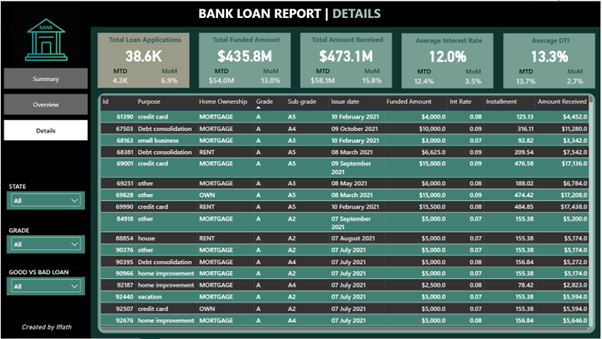

Layout of this report page (visuals, bound fields, positions):
{"tool":"powerbi","page":{"name":"Details","canvas":[1280,720],"ordinal":2},"visuals":[{"type":"shape","box":[206.3,67.8,195.8,117.5],"z":0,"group":"g1"},{"type":"shape","box":[422.8,67.8,195.8,117.5],"z":0,"group":"g2"},{"type":"shape","box":[639.3,67.8,195.8,117.5],"z":0,"group":"g3"},{"type":"shape","box":[855.8,68.3,195.8,117.5],"z":0,"group":"g4"},{"type":"shape","box":[1072.7,68.3,195.8,117.5],"z":0,"group":"g5"},{"type":"shape","box":[206.3,196.2,1061.9,512.2],"z":0},{"type":"shape","box":[0,55.2,192,665.6],"z":1000},{"type":"card","fields":{"Values":["public bank_loan_data.Total Loan Applications"]},"box":[238.3,87.4,131.7,55.2],"z":1000,"group":"g1"},{"type":"card","fields":{"Values":["public bank_loan_data.Total Funded Amount"]},"box":[454.8,87.4,131.7,55.2],"z":1000,"group":"g2"},{"type":"card","fields":{"Values":["public bank_loan_data.Total Amount Received"]},"box":[671.3,87.4,131.7,55.2],"z":1000,"group":"g3"},{"type":"card","fields":{"Values":["public bank_loan_data.Avg Interest Rate"]},"box":[887.8,87.9,131.7,55.2],"z":1000,"group":"g4"},{"type":"card","fields":{"Values":["public bank_loan_data.Average DTI"]},"box":[1104.7,87.9,131.7,55.2],"z":1000,"group":"g5"},{"type":"shape","box":[0,0,1280,55],"z":2000},{"type":"textbox","box":[220.5,67.8,172.6,39.2],"z":2000,"group":"g1"},{"type":"textbox","box":[437,67.8,172.6,39.2],"z":2000,"group":"g2"},{"type":"textbox","box":[653.5,67.8,172.6,39.2],"z":2000,"group":"g3"},{"type":"textbox","box":[870,68.3,172.6,39.2],"z":2000,"group":"g4"},{"type":"textbox","box":[1086.9,68.3,172.6,39.2],"z":2000,"group":"g5"},{"type":"textbox","box":[416.5,1.8,448.5,53.4],"z":3000},{"type":"card","title":"MTD","fields":{"Values":["public bank_loan_data.MTD Loan Applications"]},"box":[220.5,139,67.6,46.3],"z":3000,"group":"g1"},{"type":"card","title":"MTD","fields":{"Values":["public bank_loan_data.MTD Funded Amount"]},"box":[437,139,67.6,46.3],"z":3000,"group":"g2"},{"type":"card","title":"MTD","fields":{"Values":["public bank_loan_data.MTD Total Amount Received"]},"box":[653.5,139,67.6,46.3],"z":3000,"group":"g3"},{"type":"card","title":"MTD","fields":{"Values":["public bank_loan_data.MTD Avg Interest Rate"]},"box":[870,139.5,67.6,46.3],"z":3000,"group":"g4"},{"type":"card","title":"MTD","fields":{"Values":["public bank_loan_data.MTD Avg DTI"]},"box":[1086.9,139.5,67.6,46.3],"z":3000,"group":"g5"},{"type":"group","id":"g1","title":"Group 1","box":[206.3,67.8,196.2,118.3],"z":4000},{"type":"card","title":"MoM","fields":{"Values":["public bank_loan_data.MoM Loan Application"]},"box":[325.5,139,67.6,46.3],"z":4000,"group":"g1"},{"type":"card","title":"MoM","fields":{"Values":["public bank_loan_data.MoM Total Funded Amount"]},"box":[542,139,67.6,46.3],"z":4000,"group":"g2"},{"type":"card","title":"MoM","fields":{"Values":["public bank_loan_data.MoM Total Amount Received"]},"box":[758.5,139,67.6,46.3],"z":4000,"group":"g3"},{"type":"card","title":"MoM","fields":{"Values":["public bank_loan_data.MoM Avg Interest Rate"]},"box":[975,139.5,67.6,46.3],"z":4000,"group":"g4"},{"type":"card","title":"MoM","fields":{"Values":["public bank_loan_data.MoM Avg DTI"]},"box":[1191.9,139.5,67.6,46.3],"z":4000,"group":"g5"},{"type":"group","id":"g2","title":"Group 1","box":[422.8,67.8,196.2,118.3],"z":5000},{"type":"group","id":"g3","title":"Group 1","box":[639.3,67.8,196.2,116.9],"z":6000},{"type":"group","id":"g4","title":"Group 1","box":[855.8,68.3,196.6,117.5],"z":7000},{"type":"group","id":"g5","title":"Group 1","box":[1072.7,68.3,195.4,117.5],"z":8000},{"type":"slicer","title":"STATE","fields":{"Values":["public bank_loan_data.address_state"]},"box":[12,385.5,167.4,59.2],"z":9000},{"type":"slicer","title":"GRADE","fields":{"Values":["public bank_loan_data.grade"]},"box":[12,479.3,167.4,59.2],"z":10000},{"type":"slicer","title":"GOOD VS BAD LOAN","fields":{"Values":["public bank_loan_data.Good vs Bad Loan"]},"box":[12,568.7,167.4,59.2],"z":11000},{"type":"tableEx","fields":{"Values":["public bank_loan_data.id","public bank_loan_data.purpose","public bank_loan_data.home_ownership","public bank_loan_data.grade","public bank_loan_data.sub_grade","public bank_loan_data.issue_date","public bank_loan_data.Total Funded Amount","Sum(public bank_loan_data.int_rate)","Sum(public bank_loan_data.installment)","public bank_loan_data.Total Amount Received"]},"box":[206.3,196.2,1061.9,512.2],"z":12000},{"type":"image","box":[5.8,0,181.8,160.1],"z":13000},{"type":"pageNavigator","box":[5.8,142.8,180.3,155.8],"z":14000},{"type":"textbox","box":[13.2,680.7,167.8,27.6],"z":15000}]}

Visuals, with their boxes in screenshot pixels (x1, y1, x2, y2), scaled from the page's 1280x720 canvas onto the 602x339 screenshot:
shape: [left=97, top=32, right=189, bottom=87]
shape: [left=199, top=32, right=291, bottom=87]
shape: [left=301, top=32, right=393, bottom=87]
shape: [left=402, top=32, right=495, bottom=87]
shape: [left=505, top=32, right=597, bottom=87]
shape: [left=97, top=92, right=596, bottom=334]
shape: [left=0, top=26, right=90, bottom=338]
card - public bank_loan_data.Total Loan Applications: [left=112, top=41, right=174, bottom=67]
card - public bank_loan_data.Total Funded Amount: [left=214, top=41, right=276, bottom=67]
card - public bank_loan_data.Total Amount Received: [left=316, top=41, right=378, bottom=67]
card - public bank_loan_data.Avg Interest Rate: [left=418, top=41, right=479, bottom=67]
card - public bank_loan_data.Average DTI: [left=520, top=41, right=581, bottom=67]
shape: [left=0, top=0, right=601, bottom=26]
textbox: [left=104, top=32, right=185, bottom=50]
textbox: [left=206, top=32, right=287, bottom=50]
textbox: [left=307, top=32, right=389, bottom=50]
textbox: [left=409, top=32, right=490, bottom=51]
textbox: [left=511, top=32, right=592, bottom=51]
textbox: [left=196, top=1, right=407, bottom=26]
"MTD" card: [left=104, top=65, right=135, bottom=87]
"MTD" card: [left=206, top=65, right=237, bottom=87]
"MTD" card: [left=307, top=65, right=339, bottom=87]
"MTD" card: [left=409, top=66, right=441, bottom=87]
"MTD" card: [left=511, top=66, right=543, bottom=87]
"Group 1" group: [left=97, top=32, right=189, bottom=88]
"MoM" card: [left=153, top=65, right=185, bottom=87]
"MoM" card: [left=255, top=65, right=287, bottom=87]
"MoM" card: [left=357, top=65, right=389, bottom=87]
"MoM" card: [left=459, top=66, right=490, bottom=87]
"MoM" card: [left=561, top=66, right=592, bottom=87]
"Group 1" group: [left=199, top=32, right=291, bottom=88]
"Group 1" group: [left=301, top=32, right=393, bottom=87]
"Group 1" group: [left=402, top=32, right=495, bottom=87]
"Group 1" group: [left=505, top=32, right=596, bottom=87]
"STATE" slicer: [left=6, top=182, right=84, bottom=209]
"GRADE" slicer: [left=6, top=226, right=84, bottom=254]
"GOOD VS BAD LOAN" slicer: [left=6, top=268, right=84, bottom=296]
tableEx - public bank_loan_data.id x public bank_loan_data.purpose: [left=97, top=92, right=596, bottom=334]
image: [left=3, top=0, right=88, bottom=75]
pageNavigator: [left=3, top=67, right=88, bottom=141]
textbox: [left=6, top=320, right=85, bottom=333]
